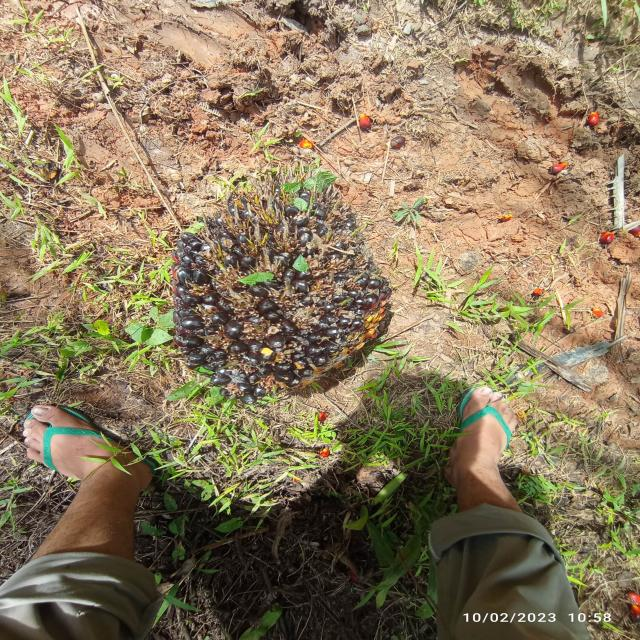fraksi 00: (140, 158, 410, 417)
